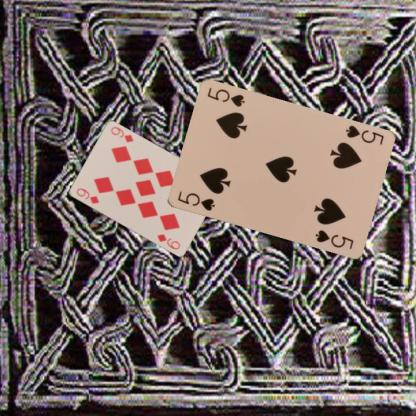5s: (174, 188, 216, 213), (342, 123, 384, 146)
9d: (73, 186, 100, 205)
